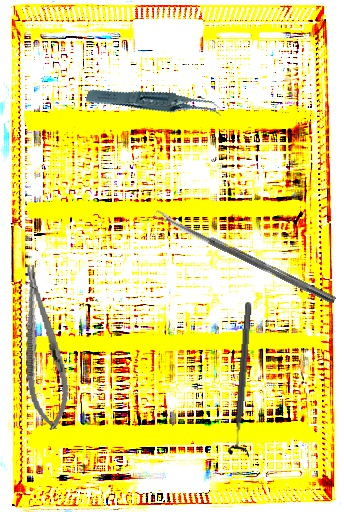Fixation Ring: (226, 301, 261, 458)
Needle Holder: (10, 261, 76, 433)
Surgical Spoon: (153, 208, 337, 305)
Tissue Forceps: (84, 62, 225, 146)
